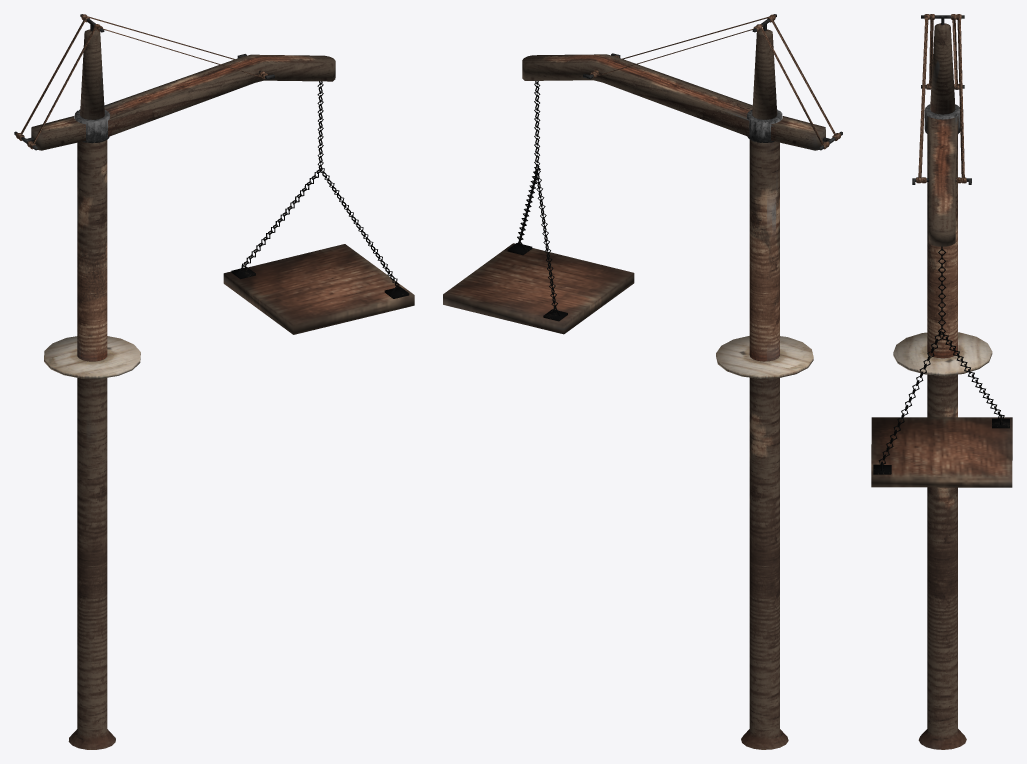
File: FinalGrua.obj
3 views of the same model, side by side, from view 1: azimuth 30°, elevation 25°; view 2: azimuth 150°, elevation 25°; view 3: azimuth 270°, elevation 25° (orthographic).
Parts seen in each view (by area): view 1: estructura, nudos, Cadenas, rueda.; view 2: estructura, nudos, Cadenas, rueda.; view 3: estructura, nudos, Cadenas, rueda..
Boxes of the visible parts, x1,y1,x2,y2 form: estructura: (14,14,414,749); nudos: (16,14,409,298); Cadenas: (237,81,402,293); rueda.: (74,109,109,143); estructura: (443,14,842,749); nudos: (507,14,840,321); Cadenas: (514,81,561,315); rueda.: (747,109,782,142); estructura: (871,15,1012,749); nudos: (873,14,1009,474); Cadenas: (878,246,1004,471); rueda.: (924,104,960,133).
Size of the model in its own units: 2420 by 4672 by 825.
3 materials, 3 textured.
